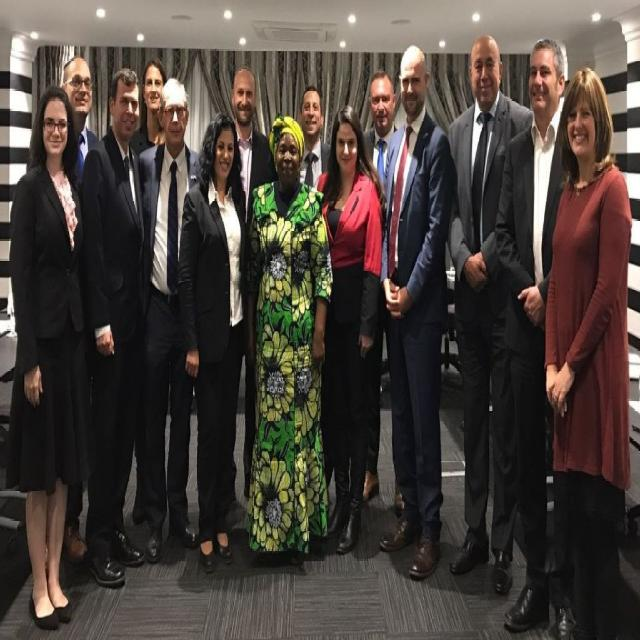body: (542, 59, 636, 639), (444, 30, 537, 598), (1, 81, 87, 633), (494, 32, 572, 638), (241, 112, 336, 576), (378, 43, 453, 580), (174, 108, 257, 573), (77, 62, 148, 592), (315, 100, 389, 557), (134, 75, 202, 562), (230, 67, 280, 501), (361, 67, 407, 520), (60, 53, 111, 189), (292, 82, 334, 189), (128, 54, 168, 158)
